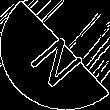N_NE: (21, 23, 89, 87)
